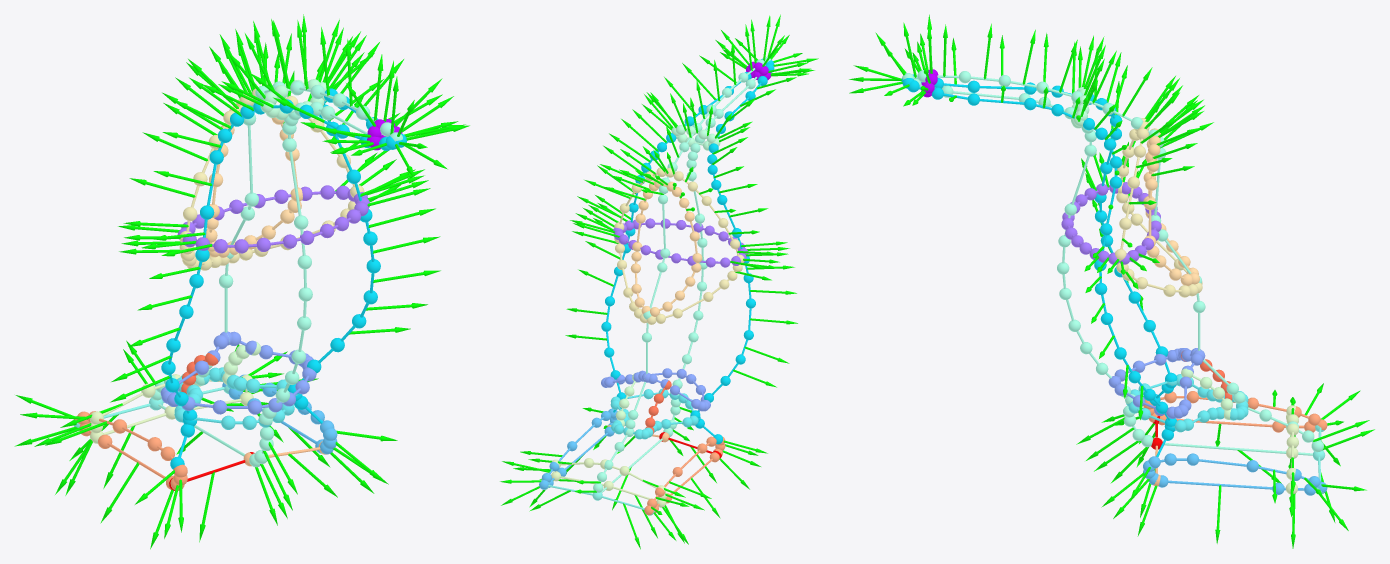
Rendered from t2f_vacuum.gltf.
3 views of the same model, side by side, from view 1: azimuth 30°, elevation 25°; view 2: azimuth 150°, elevation 25°; view 3: azimuth 270°, elevation 25° (orthographic). The views are drawn at different scales.
Bounding box in the file's own units: 0.5056 × 0.8572 × 0.8485.
